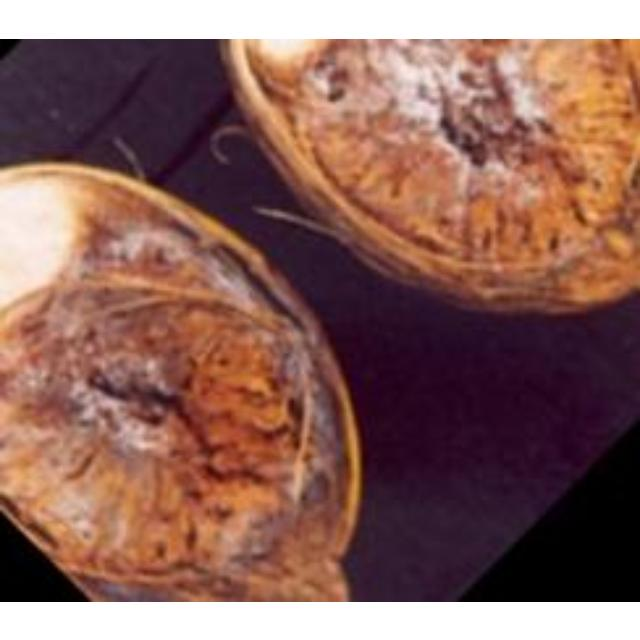damaged: (0, 161, 357, 599), (223, 38, 637, 311)
